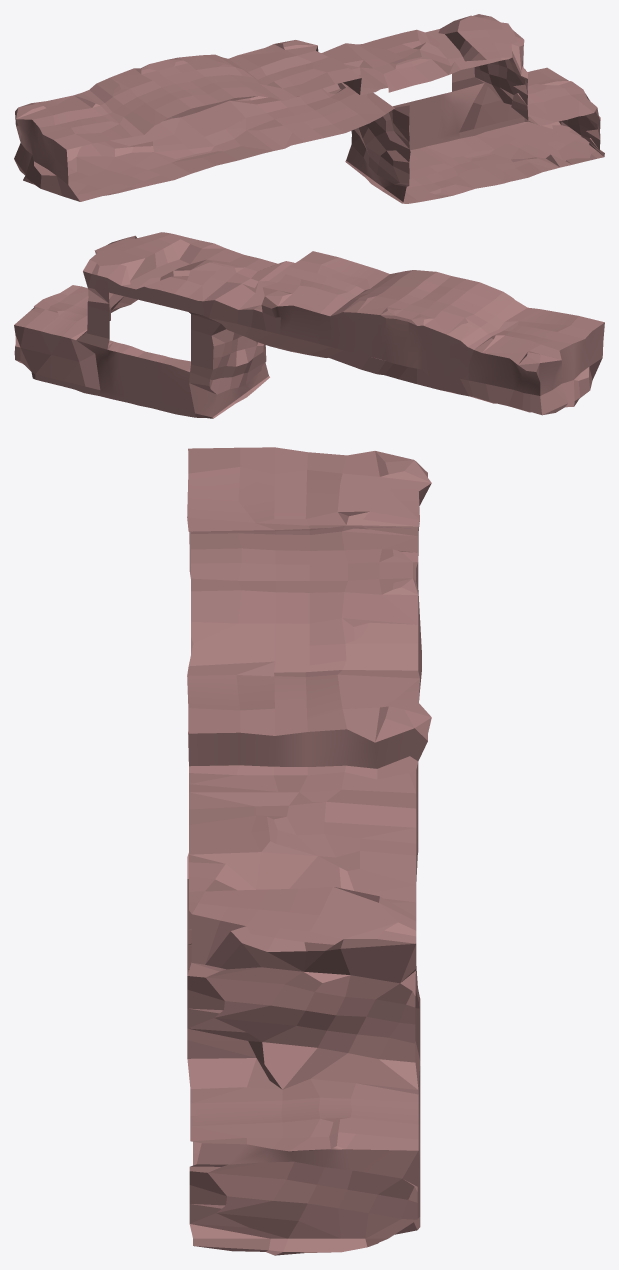
The picture shows the model from 3 angles, top to bottom: view 1: azimuth 30°, elevation 25°; view 2: azimuth 150°, elevation 25°; view 3: azimuth 270°, elevation 25°; orthographic projection. The views are drawn at different scales.
Parts seen in each view (by area): view 1: Ground3; view 2: Ground3; view 3: Ground3.
Boxes of the visible parts, bbox=[...] form: Ground3: bbox=[14, 14, 604, 203]; Ground3: bbox=[14, 232, 604, 418]; Ground3: bbox=[187, 447, 431, 1255].
Size of the model in its own units: 113 by 30.27 by 21.92.
